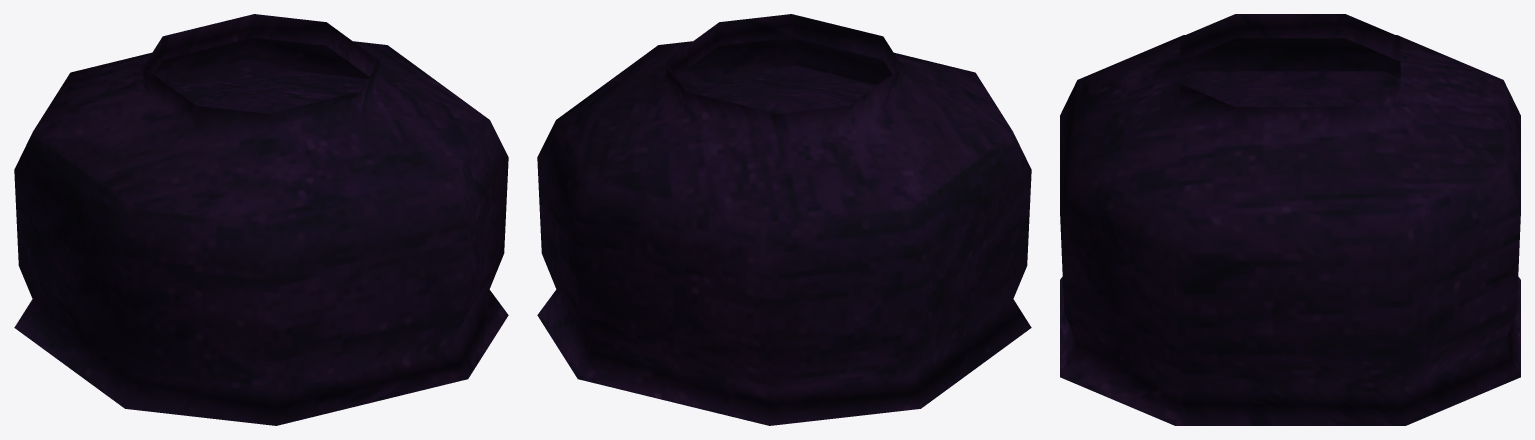
The model's file is inkpot.glb.
The picture shows the model from 3 angles, left to right: view 1: azimuth 30°, elevation 25°; view 2: azimuth 150°, elevation 25°; view 3: azimuth 270°, elevation 25°; orthographic projection. The views are drawn at different scales.
Visible parts, largest first — view 1: inkpot_geo; view 2: inkpot_geo; view 3: inkpot_geo.
Boxes of the visible parts, box(x1,y1,x2,y2) form: inkpot_geo: box(14, 14, 508, 425); inkpot_geo: box(537, 14, 1031, 425); inkpot_geo: box(1060, 14, 1520, 425).
Size of the model in its own units: 0.1476 by 0.0947 by 0.1476.
1 material, 1 textured.
